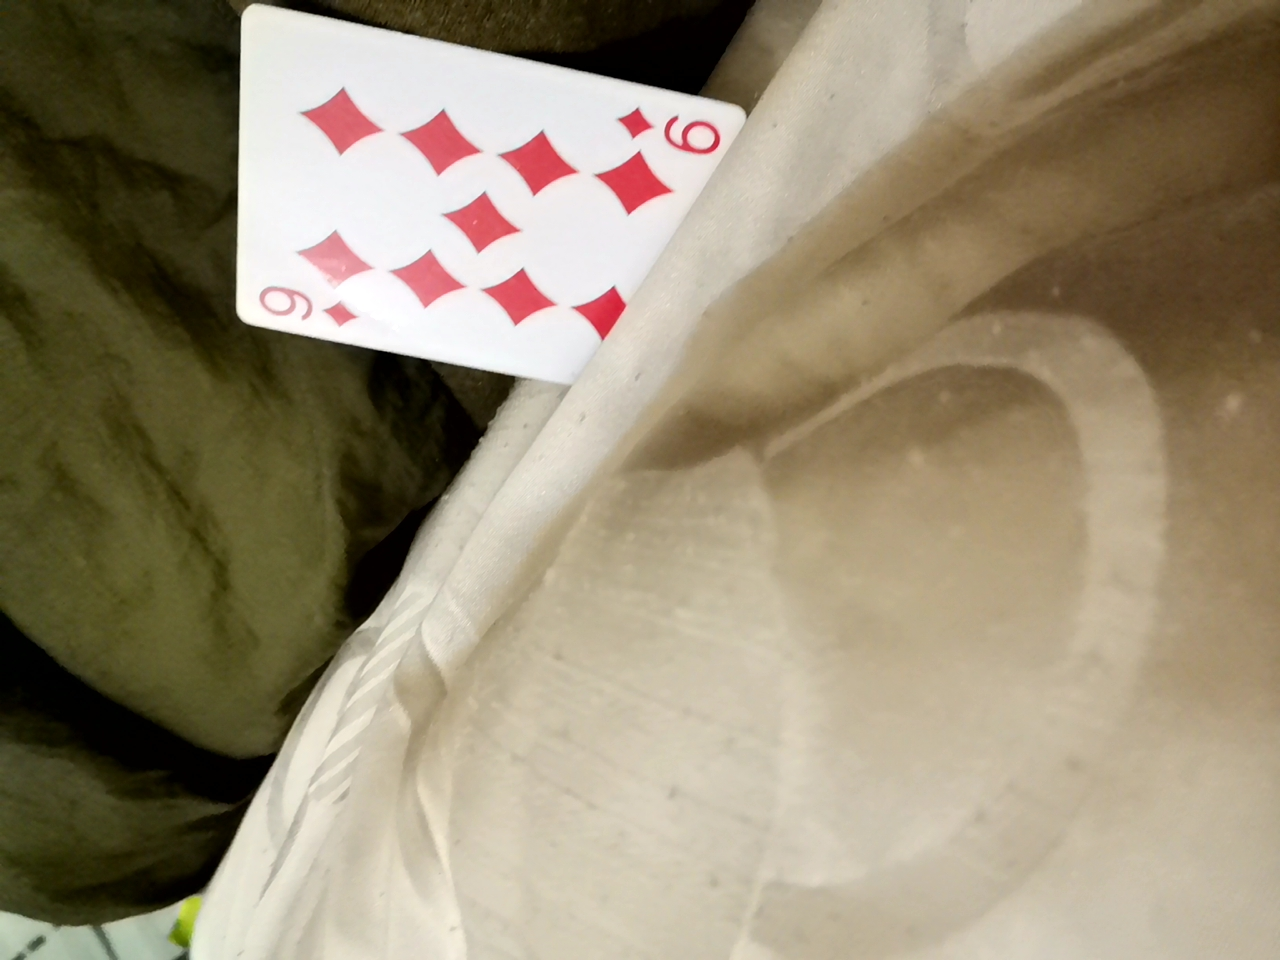fk 9: (183, 16, 717, 430)
